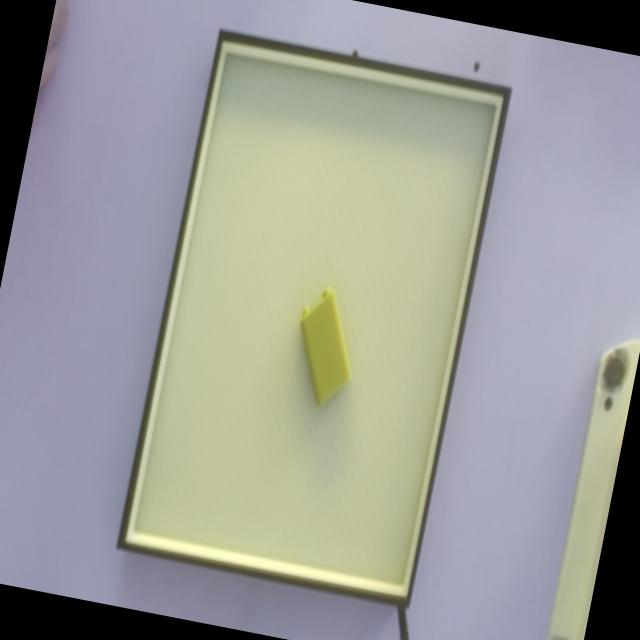bateria: (299, 285, 354, 408)
mesa: (116, 29, 511, 609)
